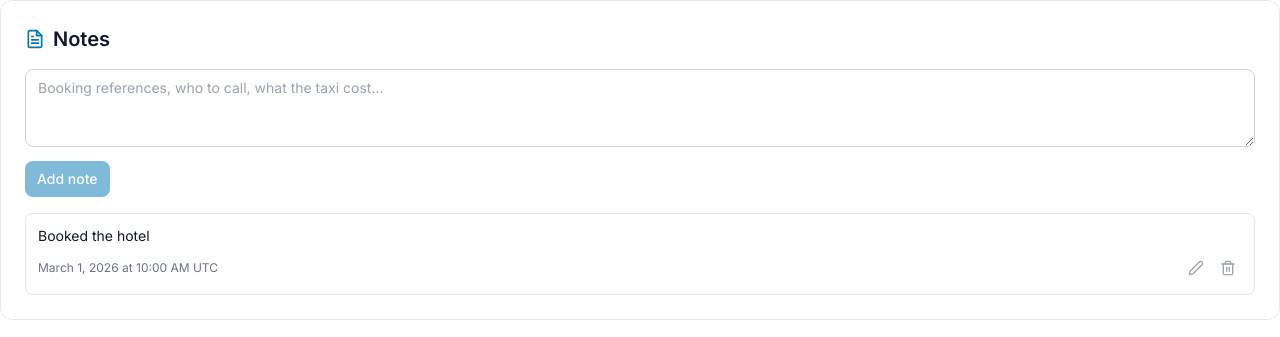
Test: a note is never shown as saved before it is saved › deleting removes the note
Click the button named "delete note". click: (1228, 268)
box: [1214, 254, 1242, 282]
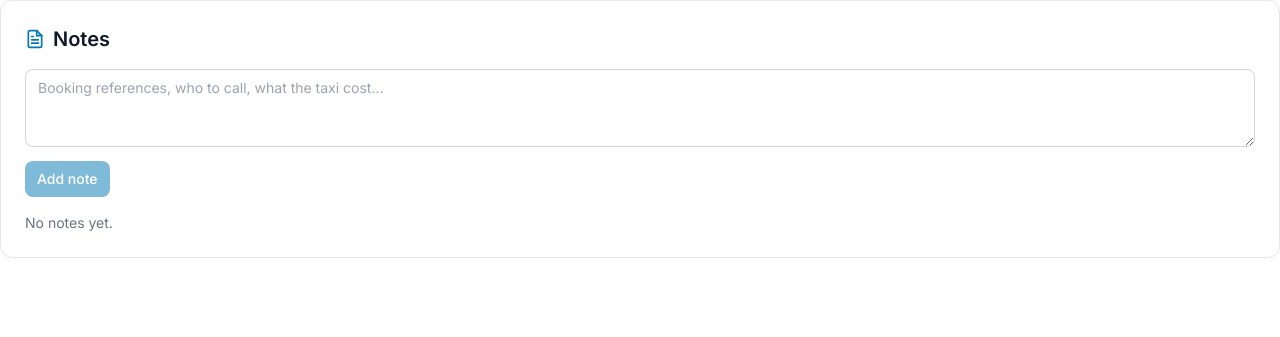
Expected: the text "Booked the hotel" is gone
